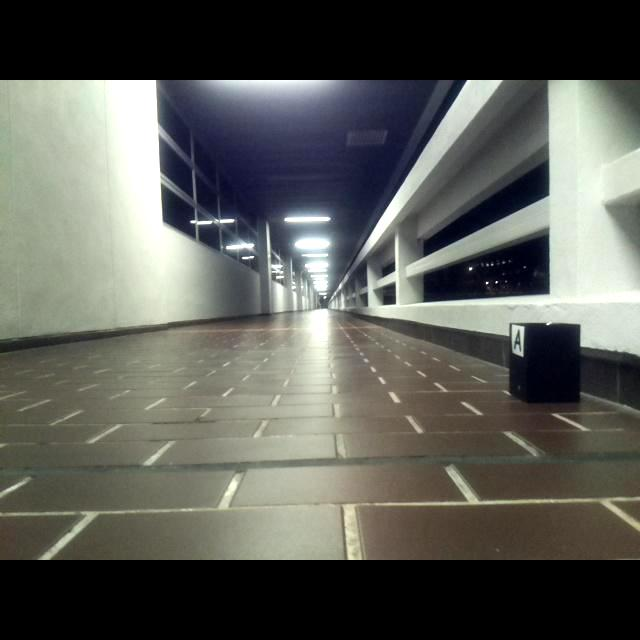A: (512, 330, 522, 353)
